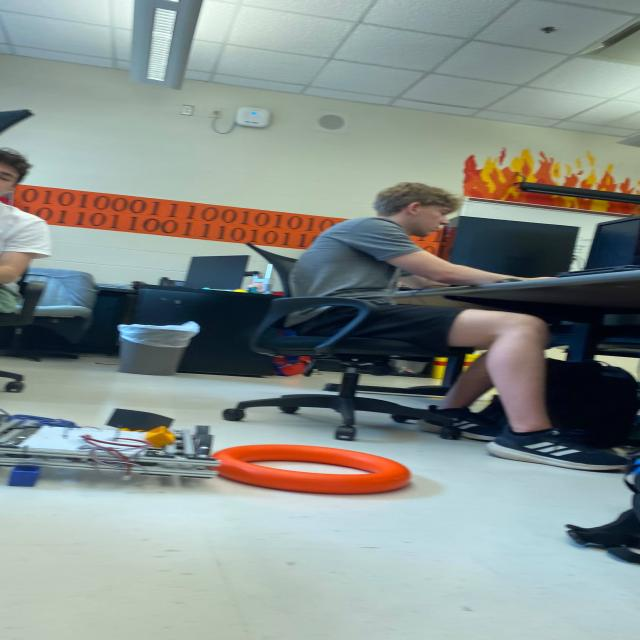blue-specimen: (7, 465, 40, 487)
yellow-specimen: (144, 426, 176, 448), (118, 428, 146, 441)
